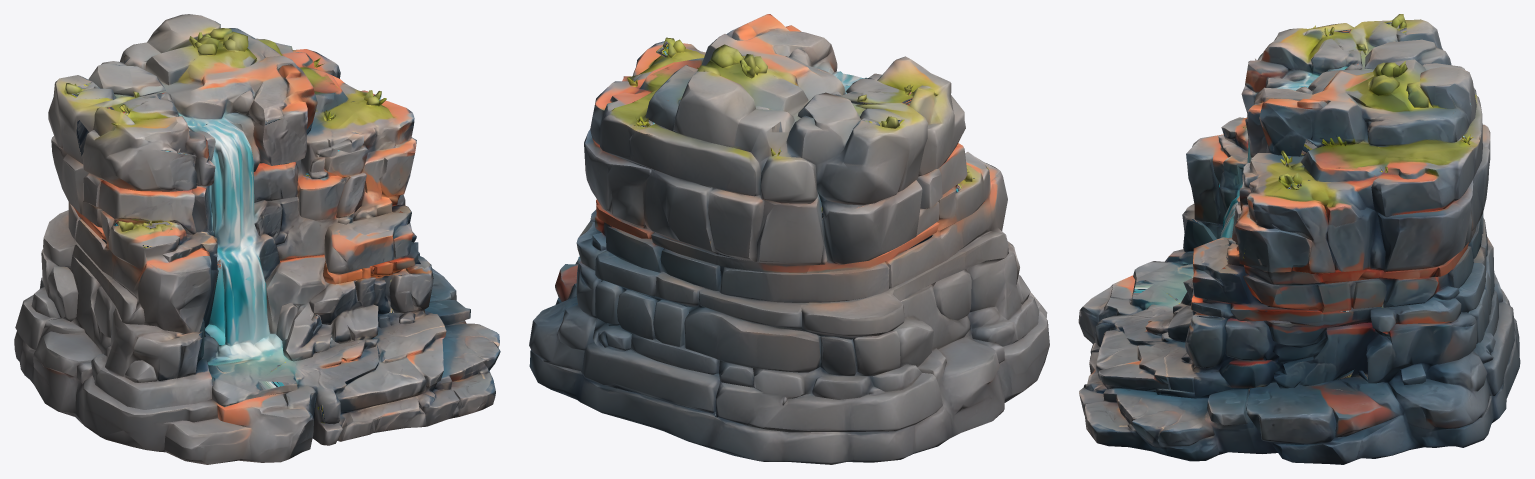
File: cliff-cartoon-mobile-decimated.glb
3 renders of one model, left to right at view 1: azimuth 30°, elevation 25°; view 2: azimuth 150°, elevation 25°; view 3: azimuth 270°, elevation 25°, orthographic. The views are drawn at different scales.
Visible parts, largest first — view 1: model; view 2: model; view 3: model.
Boxes of the visible parts, x1=… form: model: x1=14, y1=14, x2=500, y2=464; model: x1=529, y1=14, x2=1049, y2=464; model: x1=1078, y1=14, x2=1520, y2=464.
Size of the model in its own units: 1.9 by 1.42 by 1.82.
Materials: 1 (1 with a texture image).
